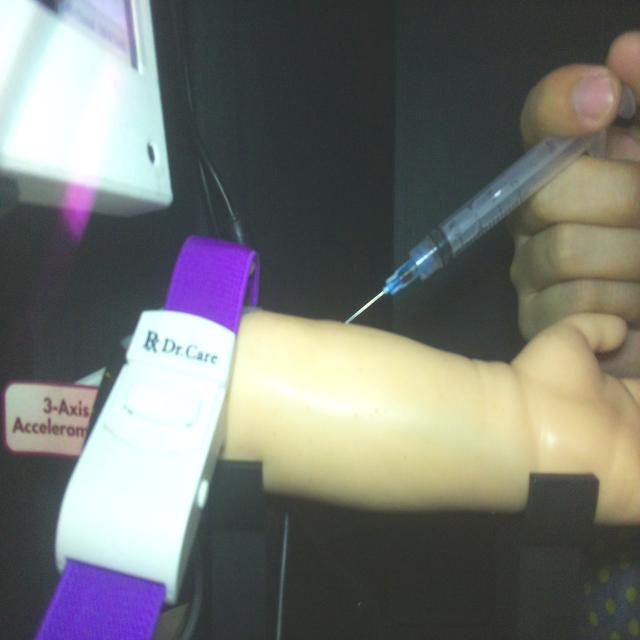29 degrees: (343, 72, 634, 326)
